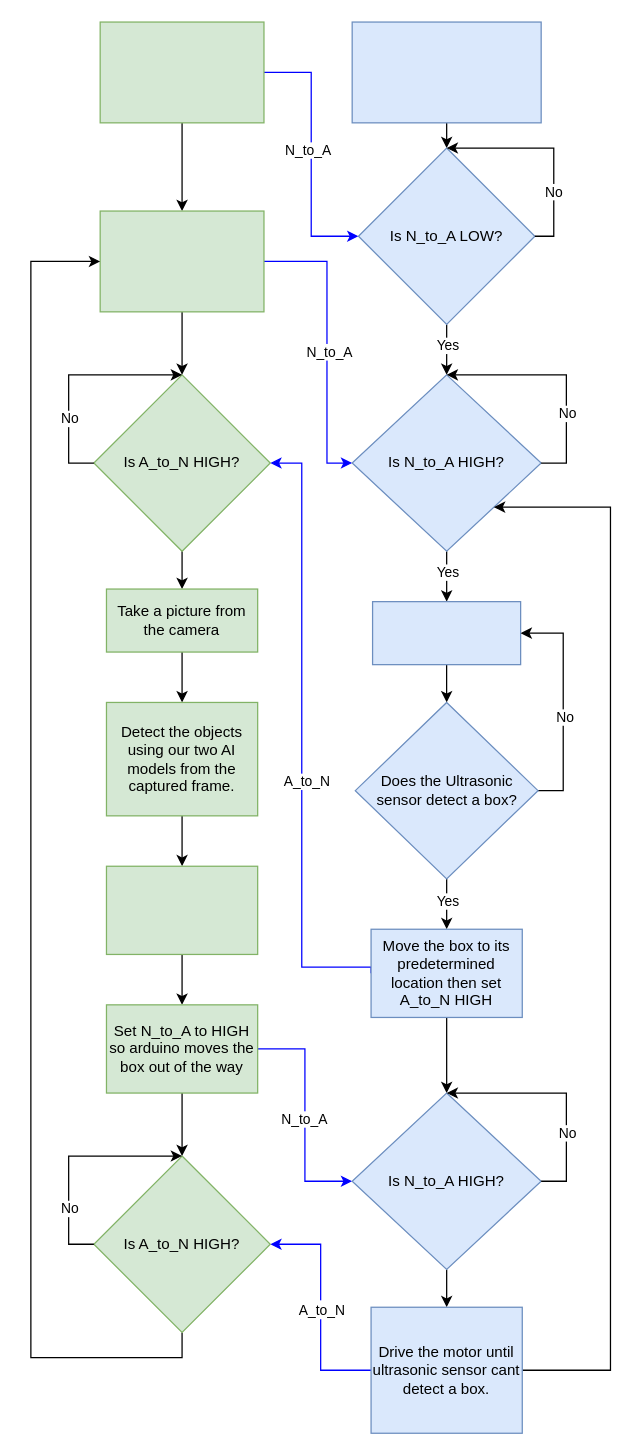
The diagram is 643 pixels wide and 1455 high, and some of its shapes have lost their labels. The shapes that lost their labels are listed below. From the top down, each one's box as (x1, y1, x2, y2) in pixels, then its label:
(99, 21, 264, 123): Set GPIO pins and activate AI models that we are going to use
(351, 21, 541, 123): Set GPIO pins then wait for NVIDIA Jetson Nano to boot up.
(99, 210, 264, 312): Set N_to_A to HIGH so arduino starts driving the motor.
(371, 600, 521, 665): Drive the step motor
(105, 865, 258, 954): Convert the detected object data into a string in order to send it via UART
